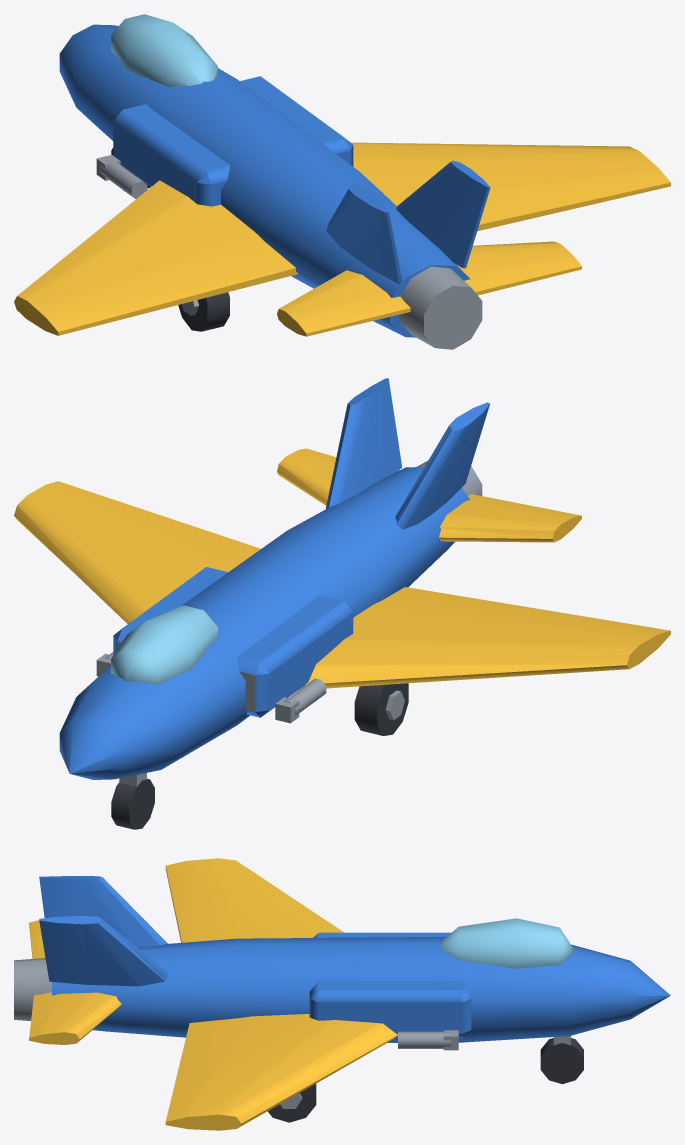
File: unit-fighter.glb
The picture shows the model from 3 angles, top to bottom: view 1: azimuth 30°, elevation 25°; view 2: azimuth 150°, elevation 25°; view 3: azimuth 270°, elevation 25°; orthographic projection. The views are drawn at different scales.
Parts seen in each view (by area): view 1: wings, fuselage, fins, exhaust, wheel; view 2: fuselage, wings, fins, wheel (×2); view 3: fuselage, wings, fins, wheel (×2), exhaust.
Boxes of the visible parts, x1,y1,x2,y2 form: wings: (14, 142, 670, 336); fuselage: (59, 14, 469, 337); fins: (326, 160, 490, 284); exhaust: (399, 266, 482, 349); wheel: (178, 292, 229, 331); fuselage: (59, 467, 469, 779); wings: (14, 448, 670, 715); fins: (326, 378, 489, 529); wheel (×2): (111, 683, 408, 829); fuselage: (52, 918, 670, 1042); wings: (29, 858, 450, 1130); fins: (39, 876, 168, 986); wheel (×2): (268, 1038, 583, 1122); exhaust: (14, 958, 51, 1020).
Bounding box in the file's own units: 12 × 4.02 × 13.
